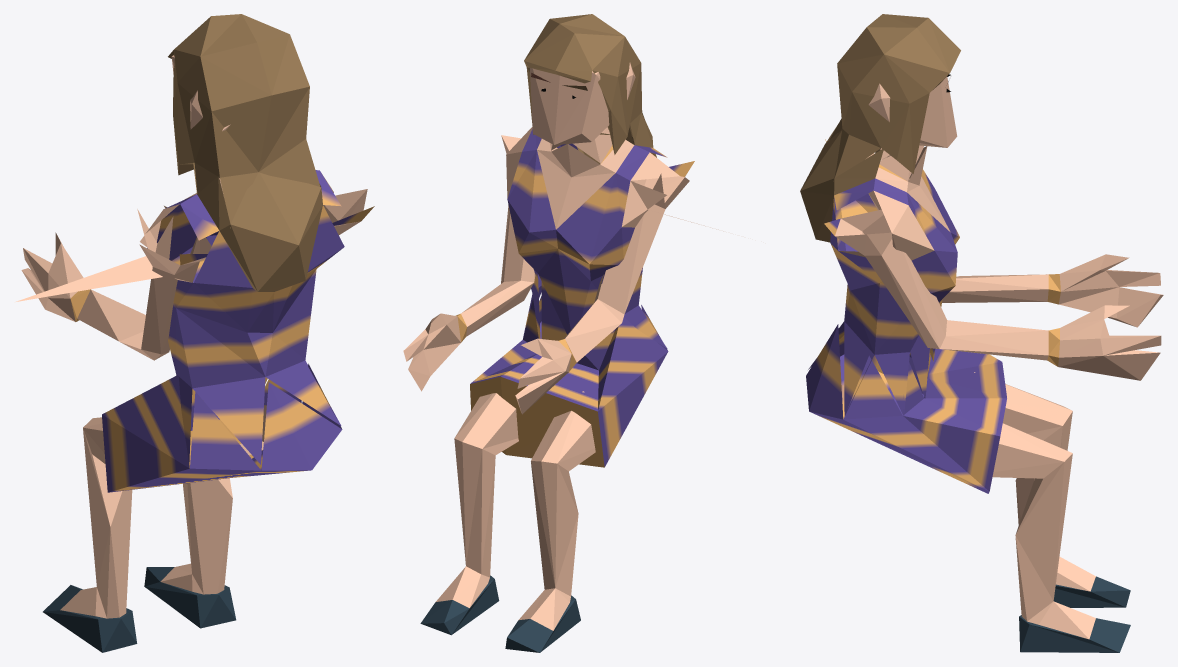
The model's file is Seated_Grandmother.obj.
3 renders of one model, left to right at view 1: azimuth 30°, elevation 25°; view 2: azimuth 150°, elevation 25°; view 3: azimuth 270°, elevation 25°, orthographic. The views are drawn at different scales.
Parts seen in each view (by area): view 1: Seated_Grandmother; view 2: Seated_Grandmother; view 3: Seated_Grandmother.
Part boxes in pixels (left/top/right/bottom): Seated_Grandmother: left=16, top=14, right=374, bottom=652; Seated_Grandmother: left=403, top=14, right=723, bottom=652; Seated_Grandmother: left=800, top=14, right=1163, bottom=652.
Bounding box in the file's own units: 0.8001 × 1.48 × 0.8128.
Materials: 1 (1 with a texture image).
